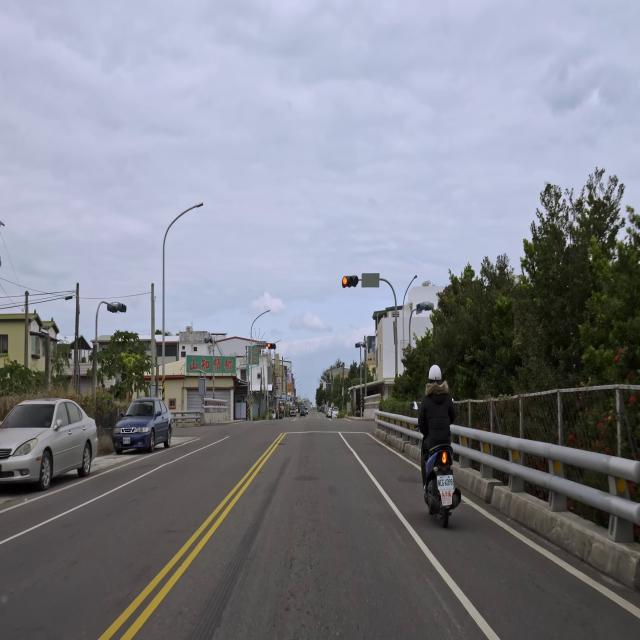red light: (342, 276, 358, 287), (267, 342, 276, 350)
